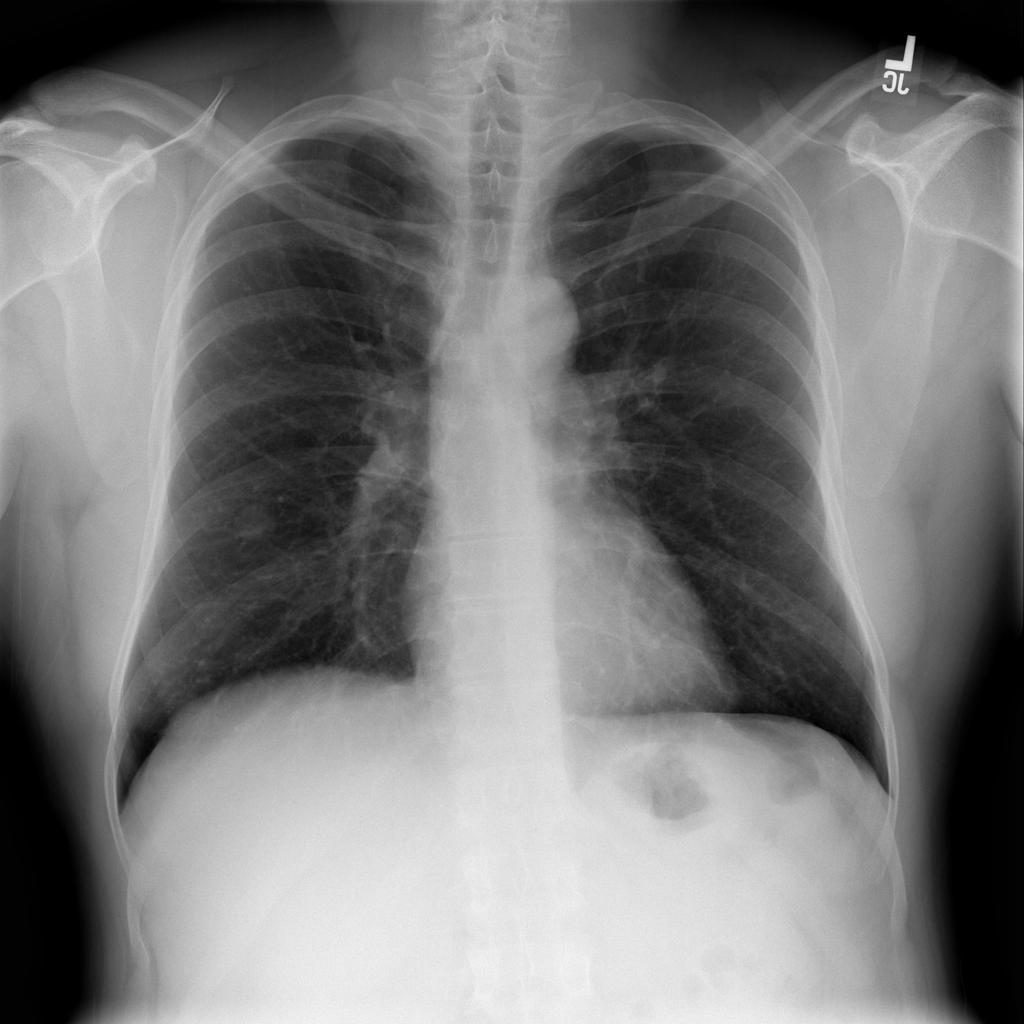nodule: (216, 486, 291, 556)
